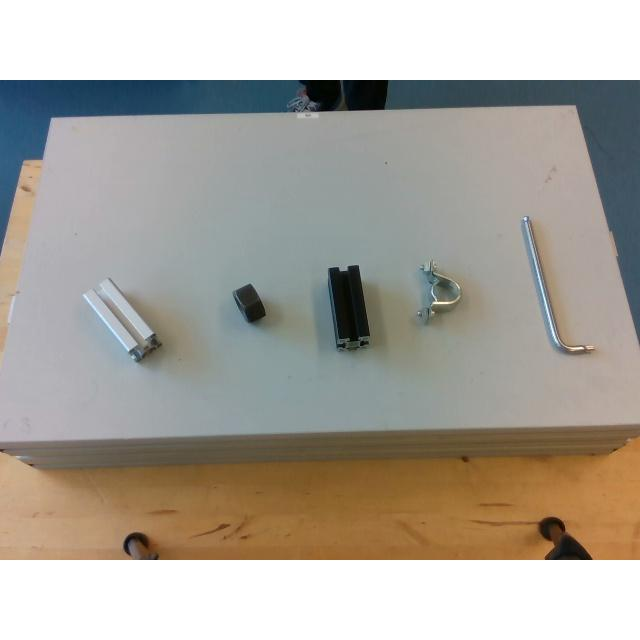AllenKey: (521, 215, 595, 352)
Housing: (415, 261, 461, 319)
M30: (232, 284, 266, 324)
S40_40_B: (328, 264, 368, 348)
S40_40_G: (84, 278, 160, 358)
